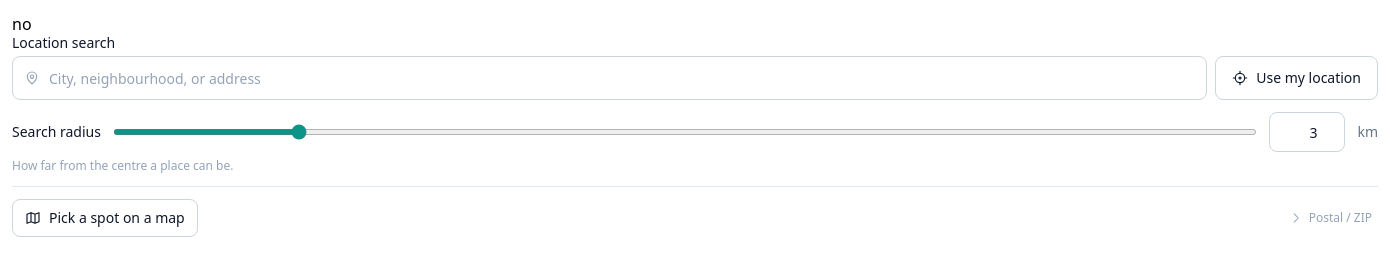
Test: <LocationField /> › shows an inline message when permission is denied (no crash)
Click the button "Use my location". click: click(1297, 78)
box: top-left (1215, 56), bottom-right (1378, 100)
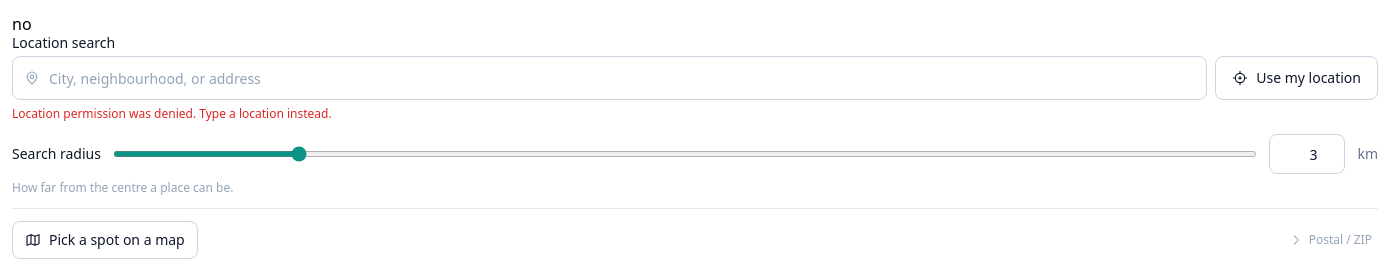
Now the text "Location permission was denied. Type a location instead." is shown, box top-left (12, 105), bottom-right (332, 122)
